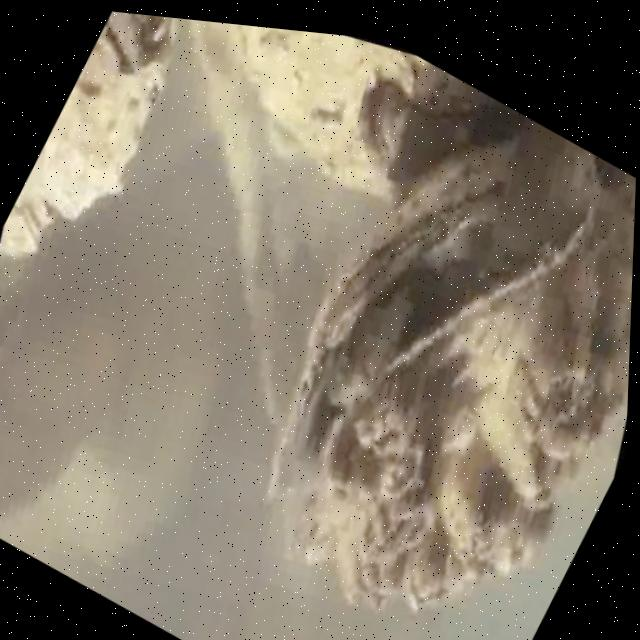Oyster-Closed: (358, 87, 497, 190), (0, 200, 41, 256)
Oyster-Indeterminate: (226, 23, 485, 203), (19, 22, 162, 221)
Oyster-Open: (271, 146, 634, 613), (108, 12, 176, 69)
